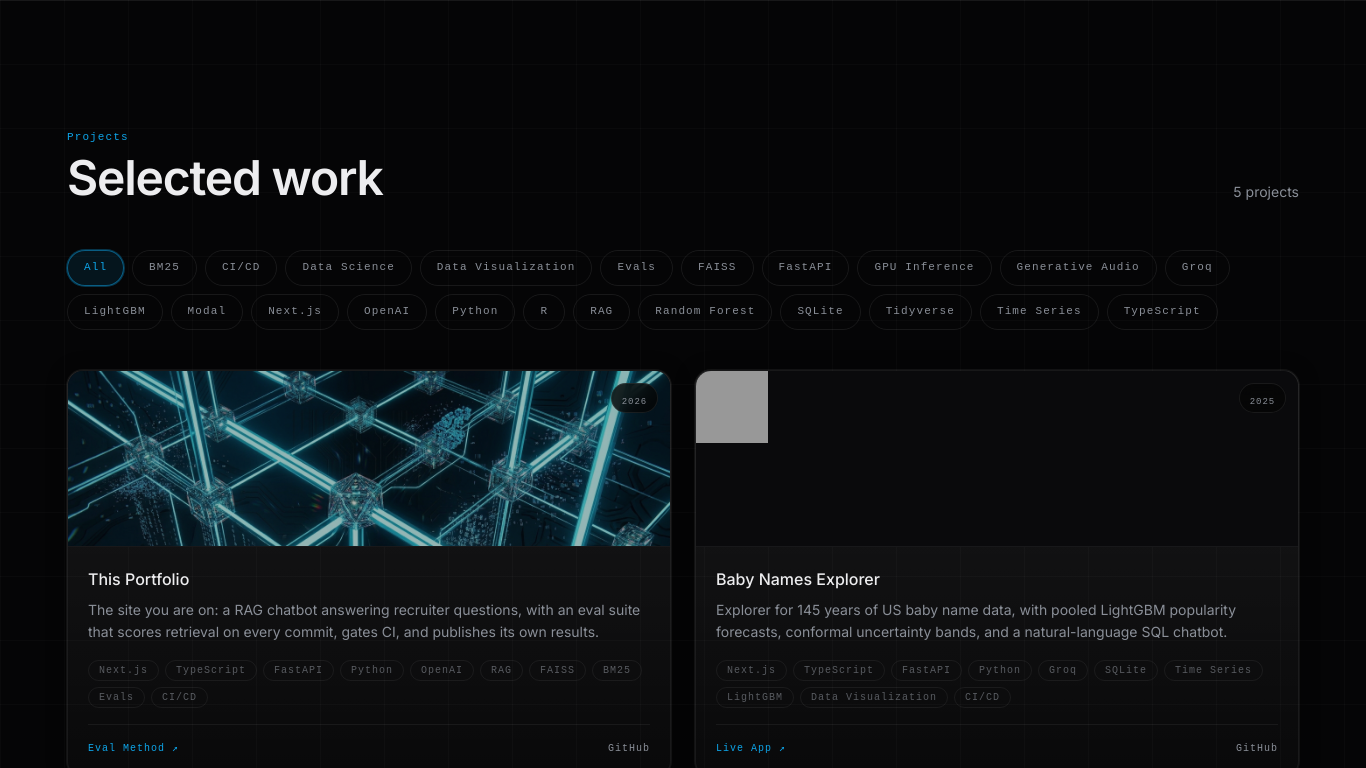
Test: ProjectsSection › resets to all projects when All is clicked
Click the button "R".
click(544, 312)  # box 524,294 -> 565,330
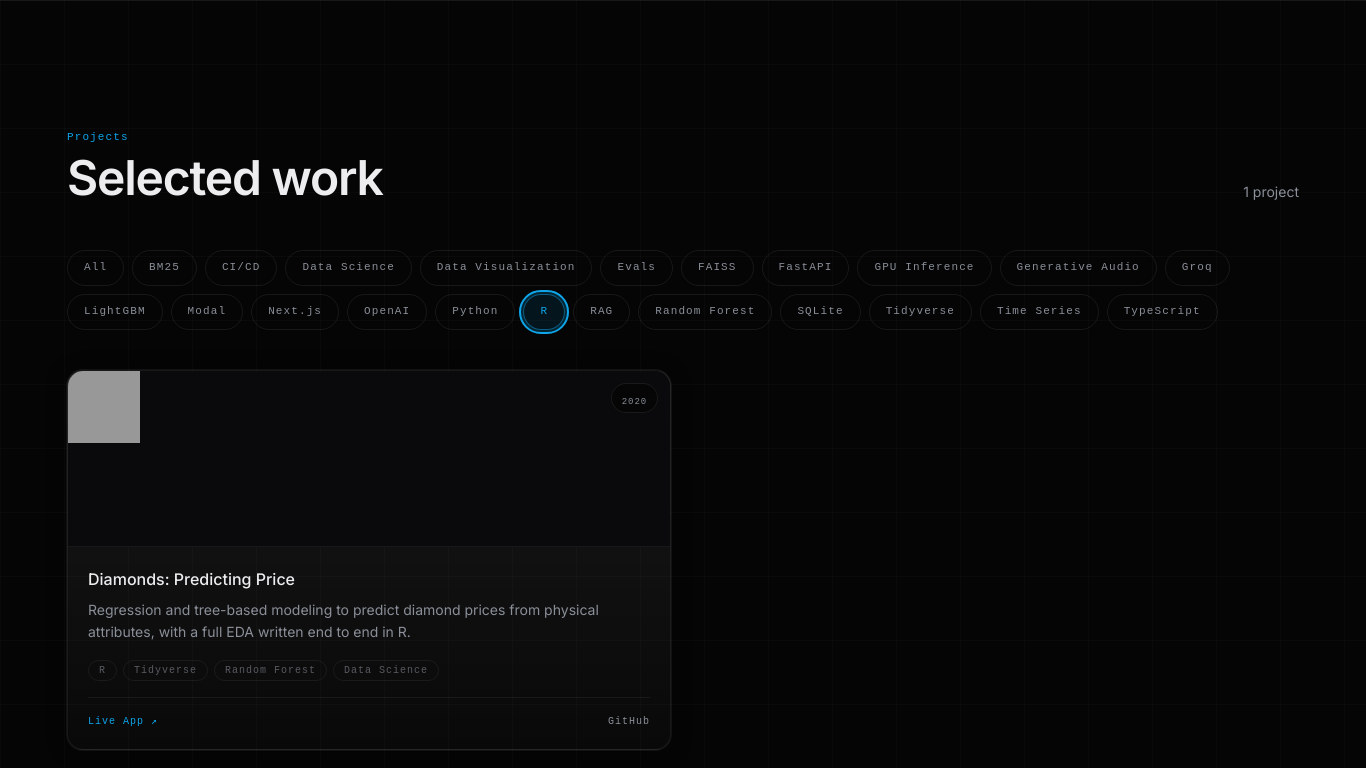
Click the button "All".
click(96, 268)  # box 67,250 -> 124,286
(page scrolled)
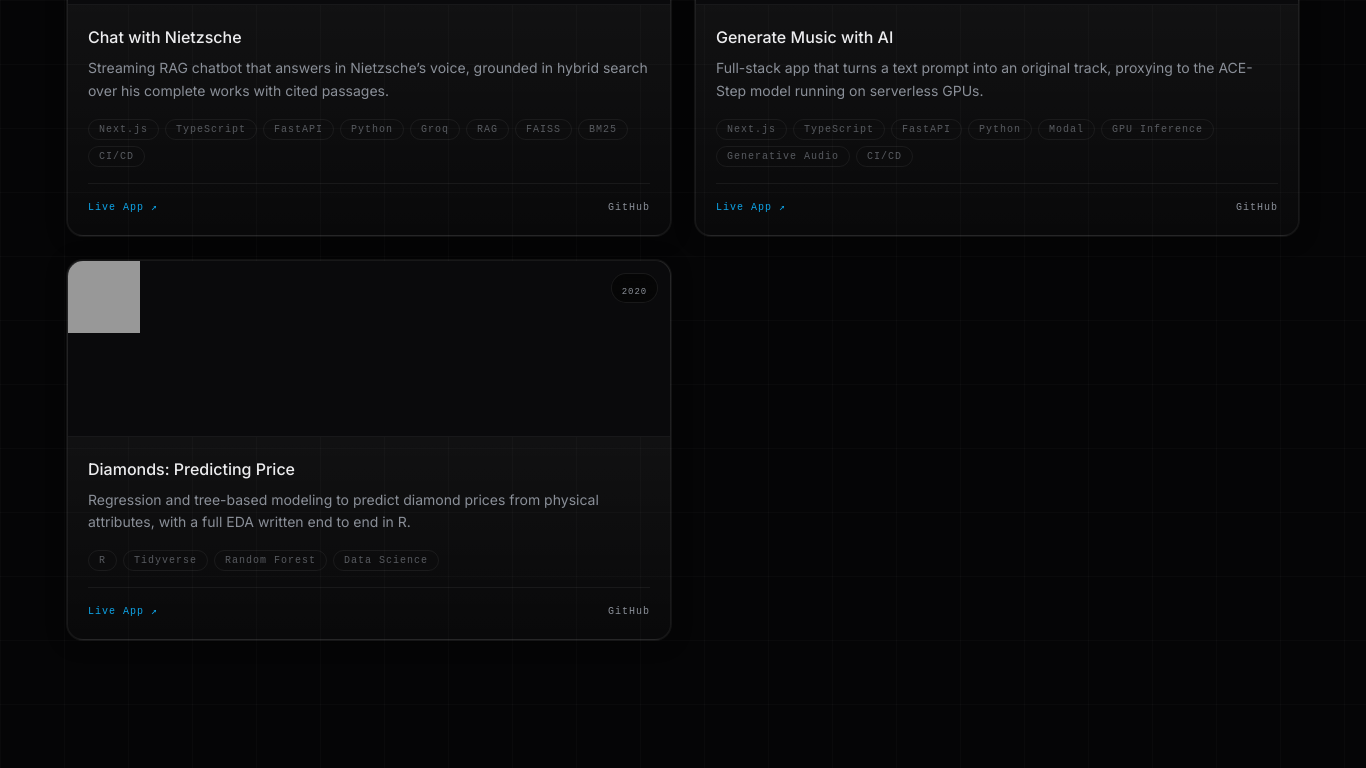
Expected: the heading "Diamonds: Predicting Price" is shown, 88,458 -> 295,478
Now the heading "Chat with Nietzsche" is shown, box 88,27 -> 242,47
Now the heading "Generate Music with AI" is shown, box 716,27 -> 893,47
